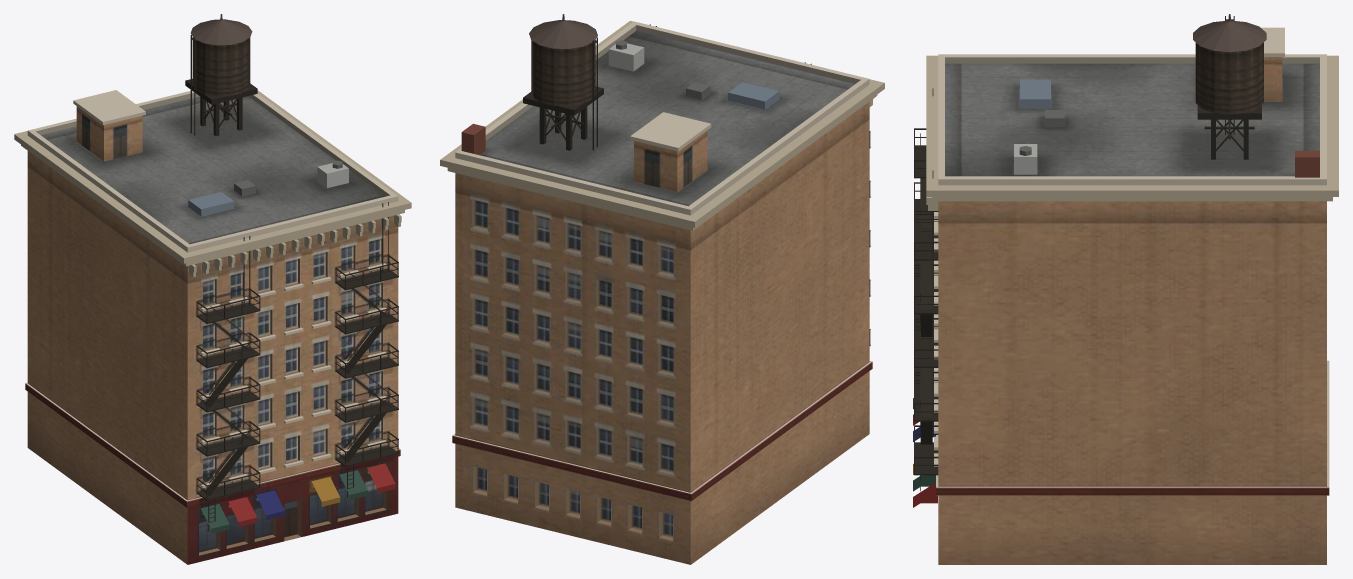
File: nyc_tenement_b.glb
3 renders of one model, left to right at view 1: azimuth 30°, elevation 25°; view 2: azimuth 150°, elevation 25°; view 3: azimuth 270°, elevation 25°, orthographic. The views are drawn at different scales.
Visible parts, largest first — view 1: nyc_tenement_b; view 2: nyc_tenement_b; view 3: nyc_tenement_b.
Part boxes in pixels (bbox=[...]): nyc_tenement_b: bbox=[14, 14, 411, 564]; nyc_tenement_b: bbox=[440, 14, 884, 564]; nyc_tenement_b: bbox=[913, 14, 1338, 564].
Bounding box in the file's own units: 16.44 × 29.35 × 21.92.
Materials: 1 (1 with a texture image).
